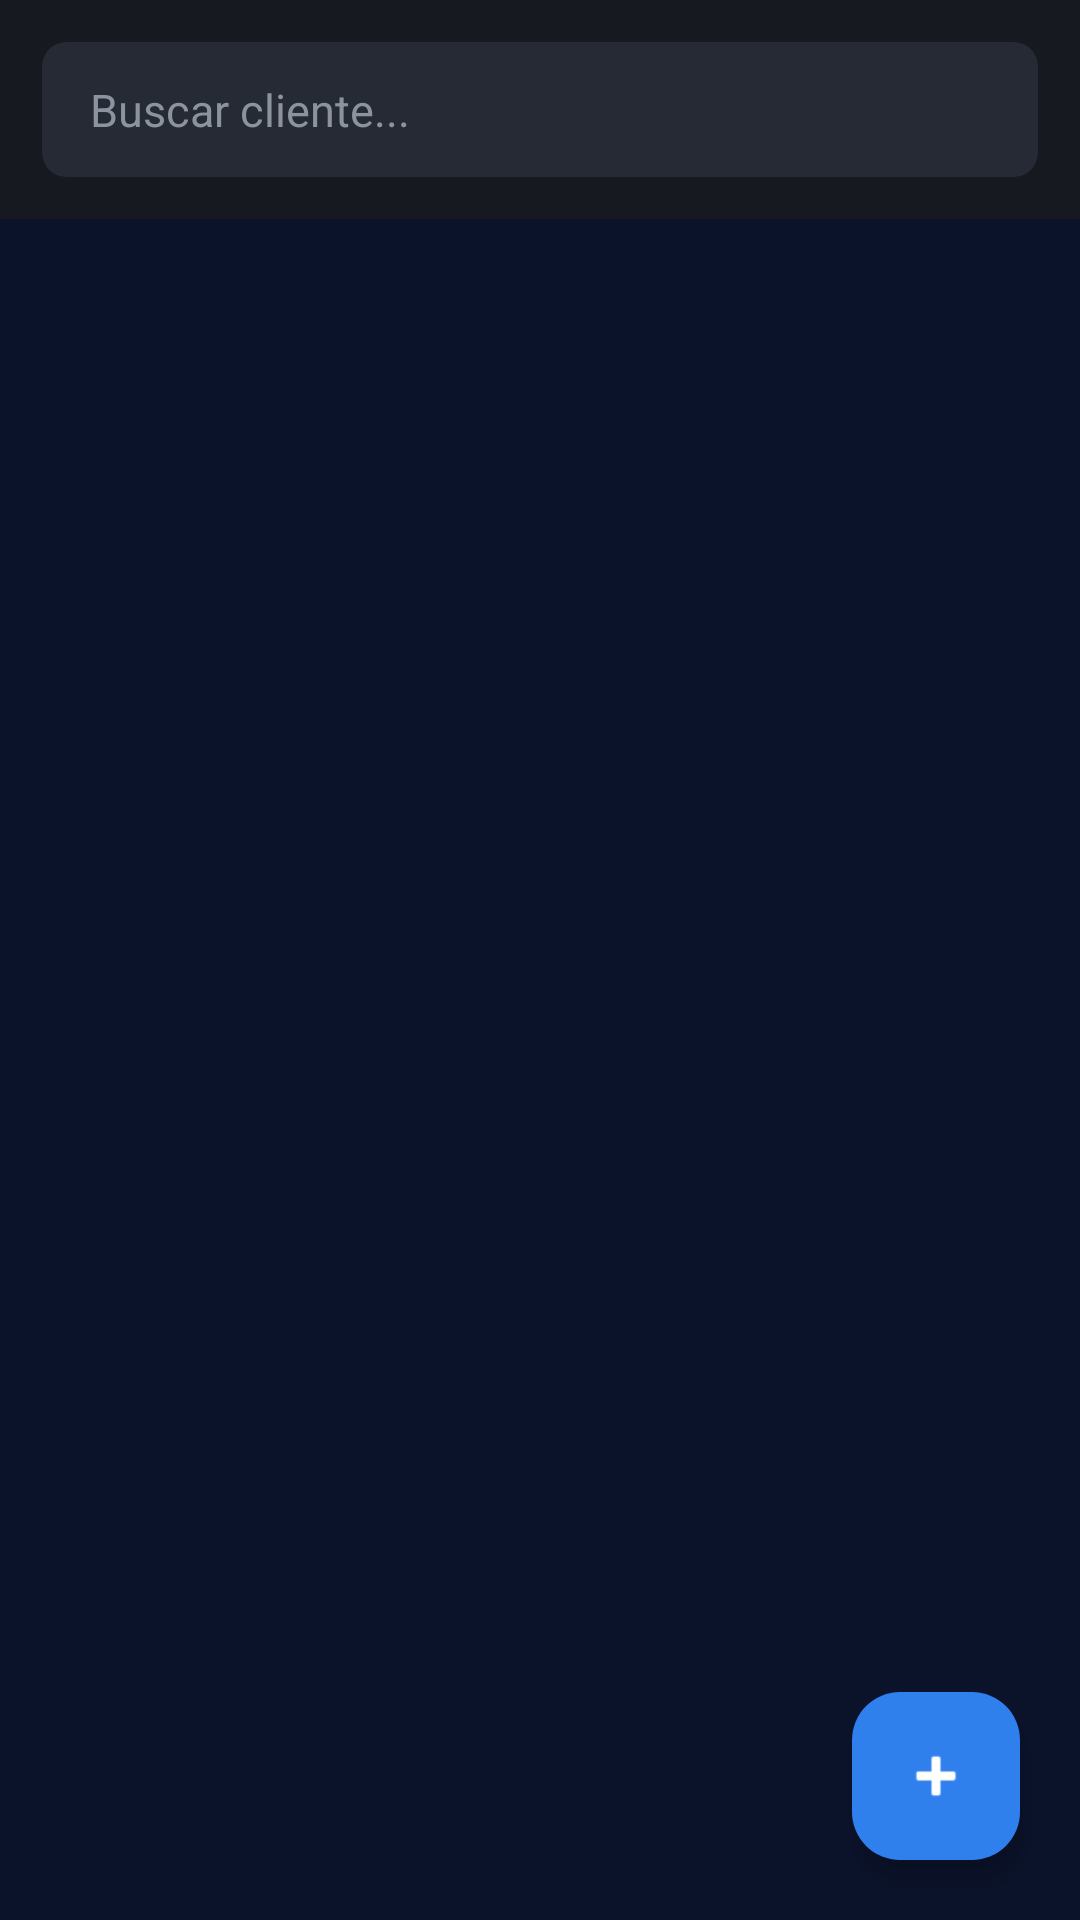

Named icons in this screenshot (1080*1920) and their centers, (x,y):
Nuevo Cliente: (936,1776)
